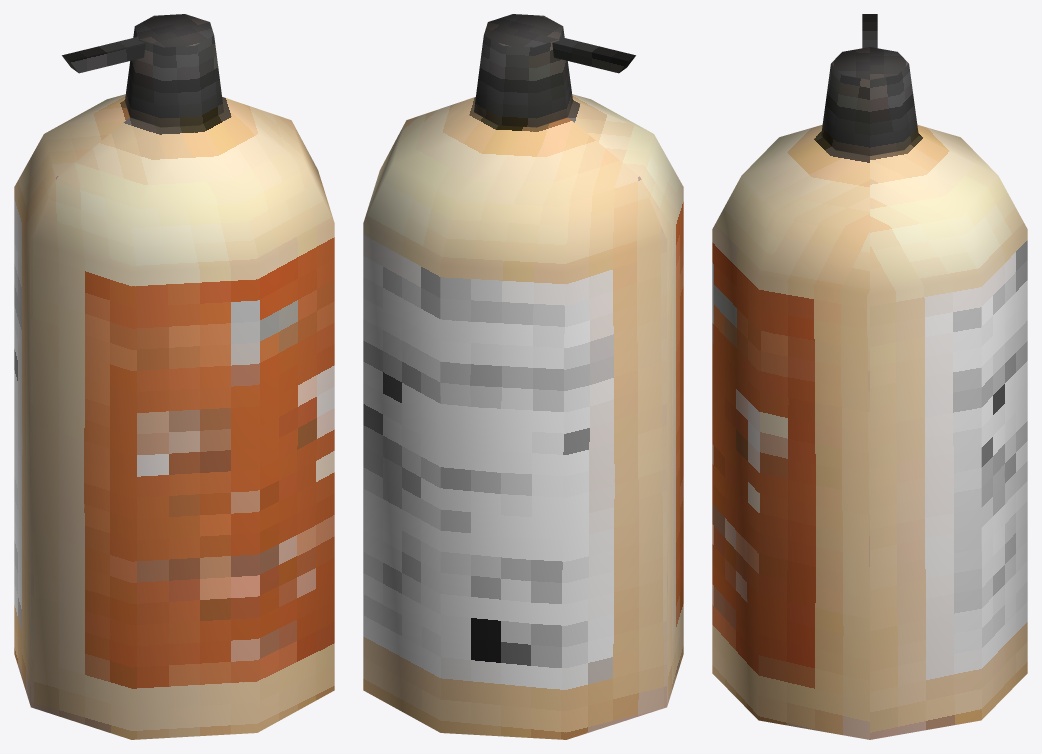
The model's file is Shampoo.glb.
3 views of the same model, side by side, from view 1: azimuth 30°, elevation 25°; view 2: azimuth 150°, elevation 25°; view 3: azimuth 270°, elevation 25° (orthographic). The views are drawn at different scales.
Visible parts, largest first — view 1: shampoo; view 2: shampoo; view 3: shampoo.
Boxes of the visible parts, <box> form: shampoo: <box>14,14,334,739</box>; shampoo: <box>363,14,683,739</box>; shampoo: <box>712,14,1027,739</box>.
Size of the model in its own units: 0.0965 by 0.2059 by 0.0965.
Materials: 1 (1 with a texture image).
